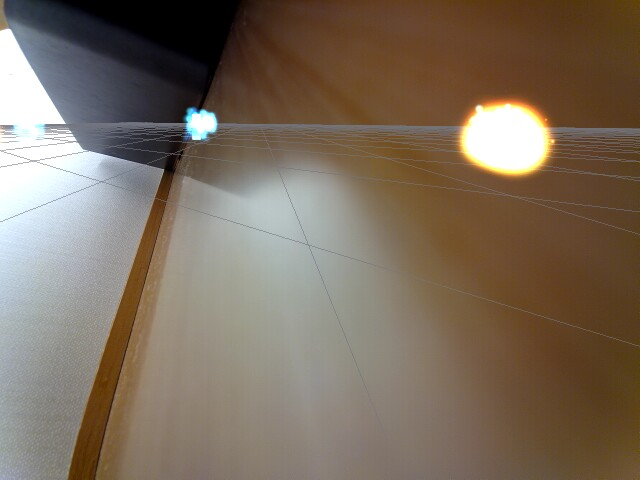firebig: (460, 93, 556, 184)
